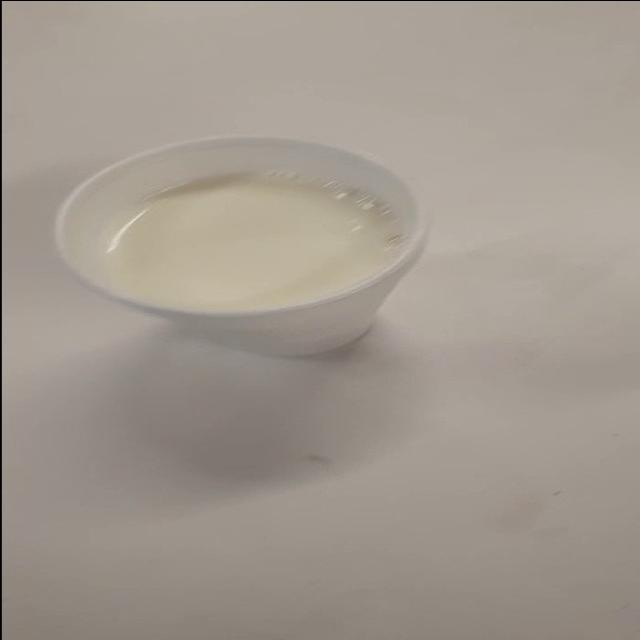Milk: (42, 120, 471, 381)
